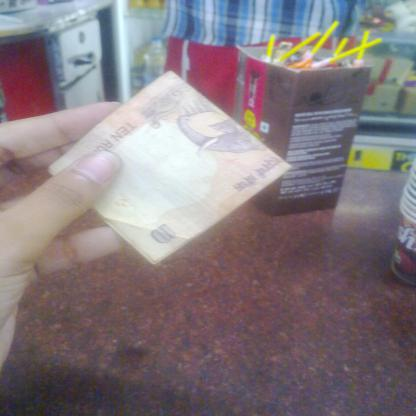Old10Back: (46, 72, 291, 266)
